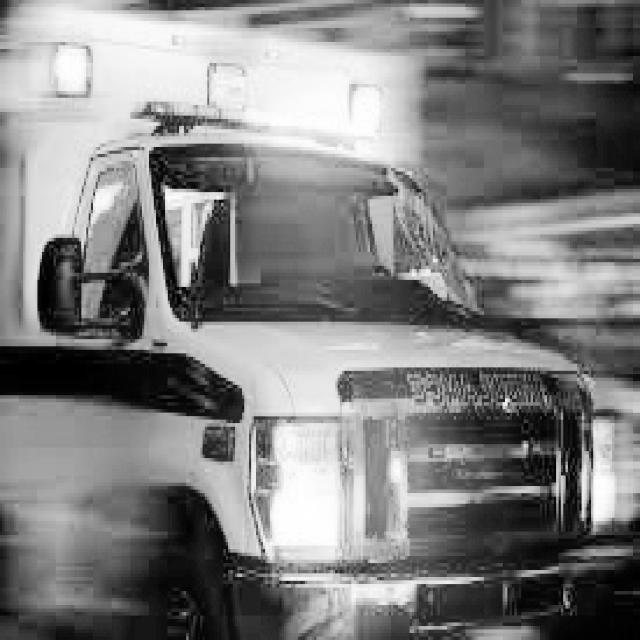Ambulance: (25, 15, 422, 176)
